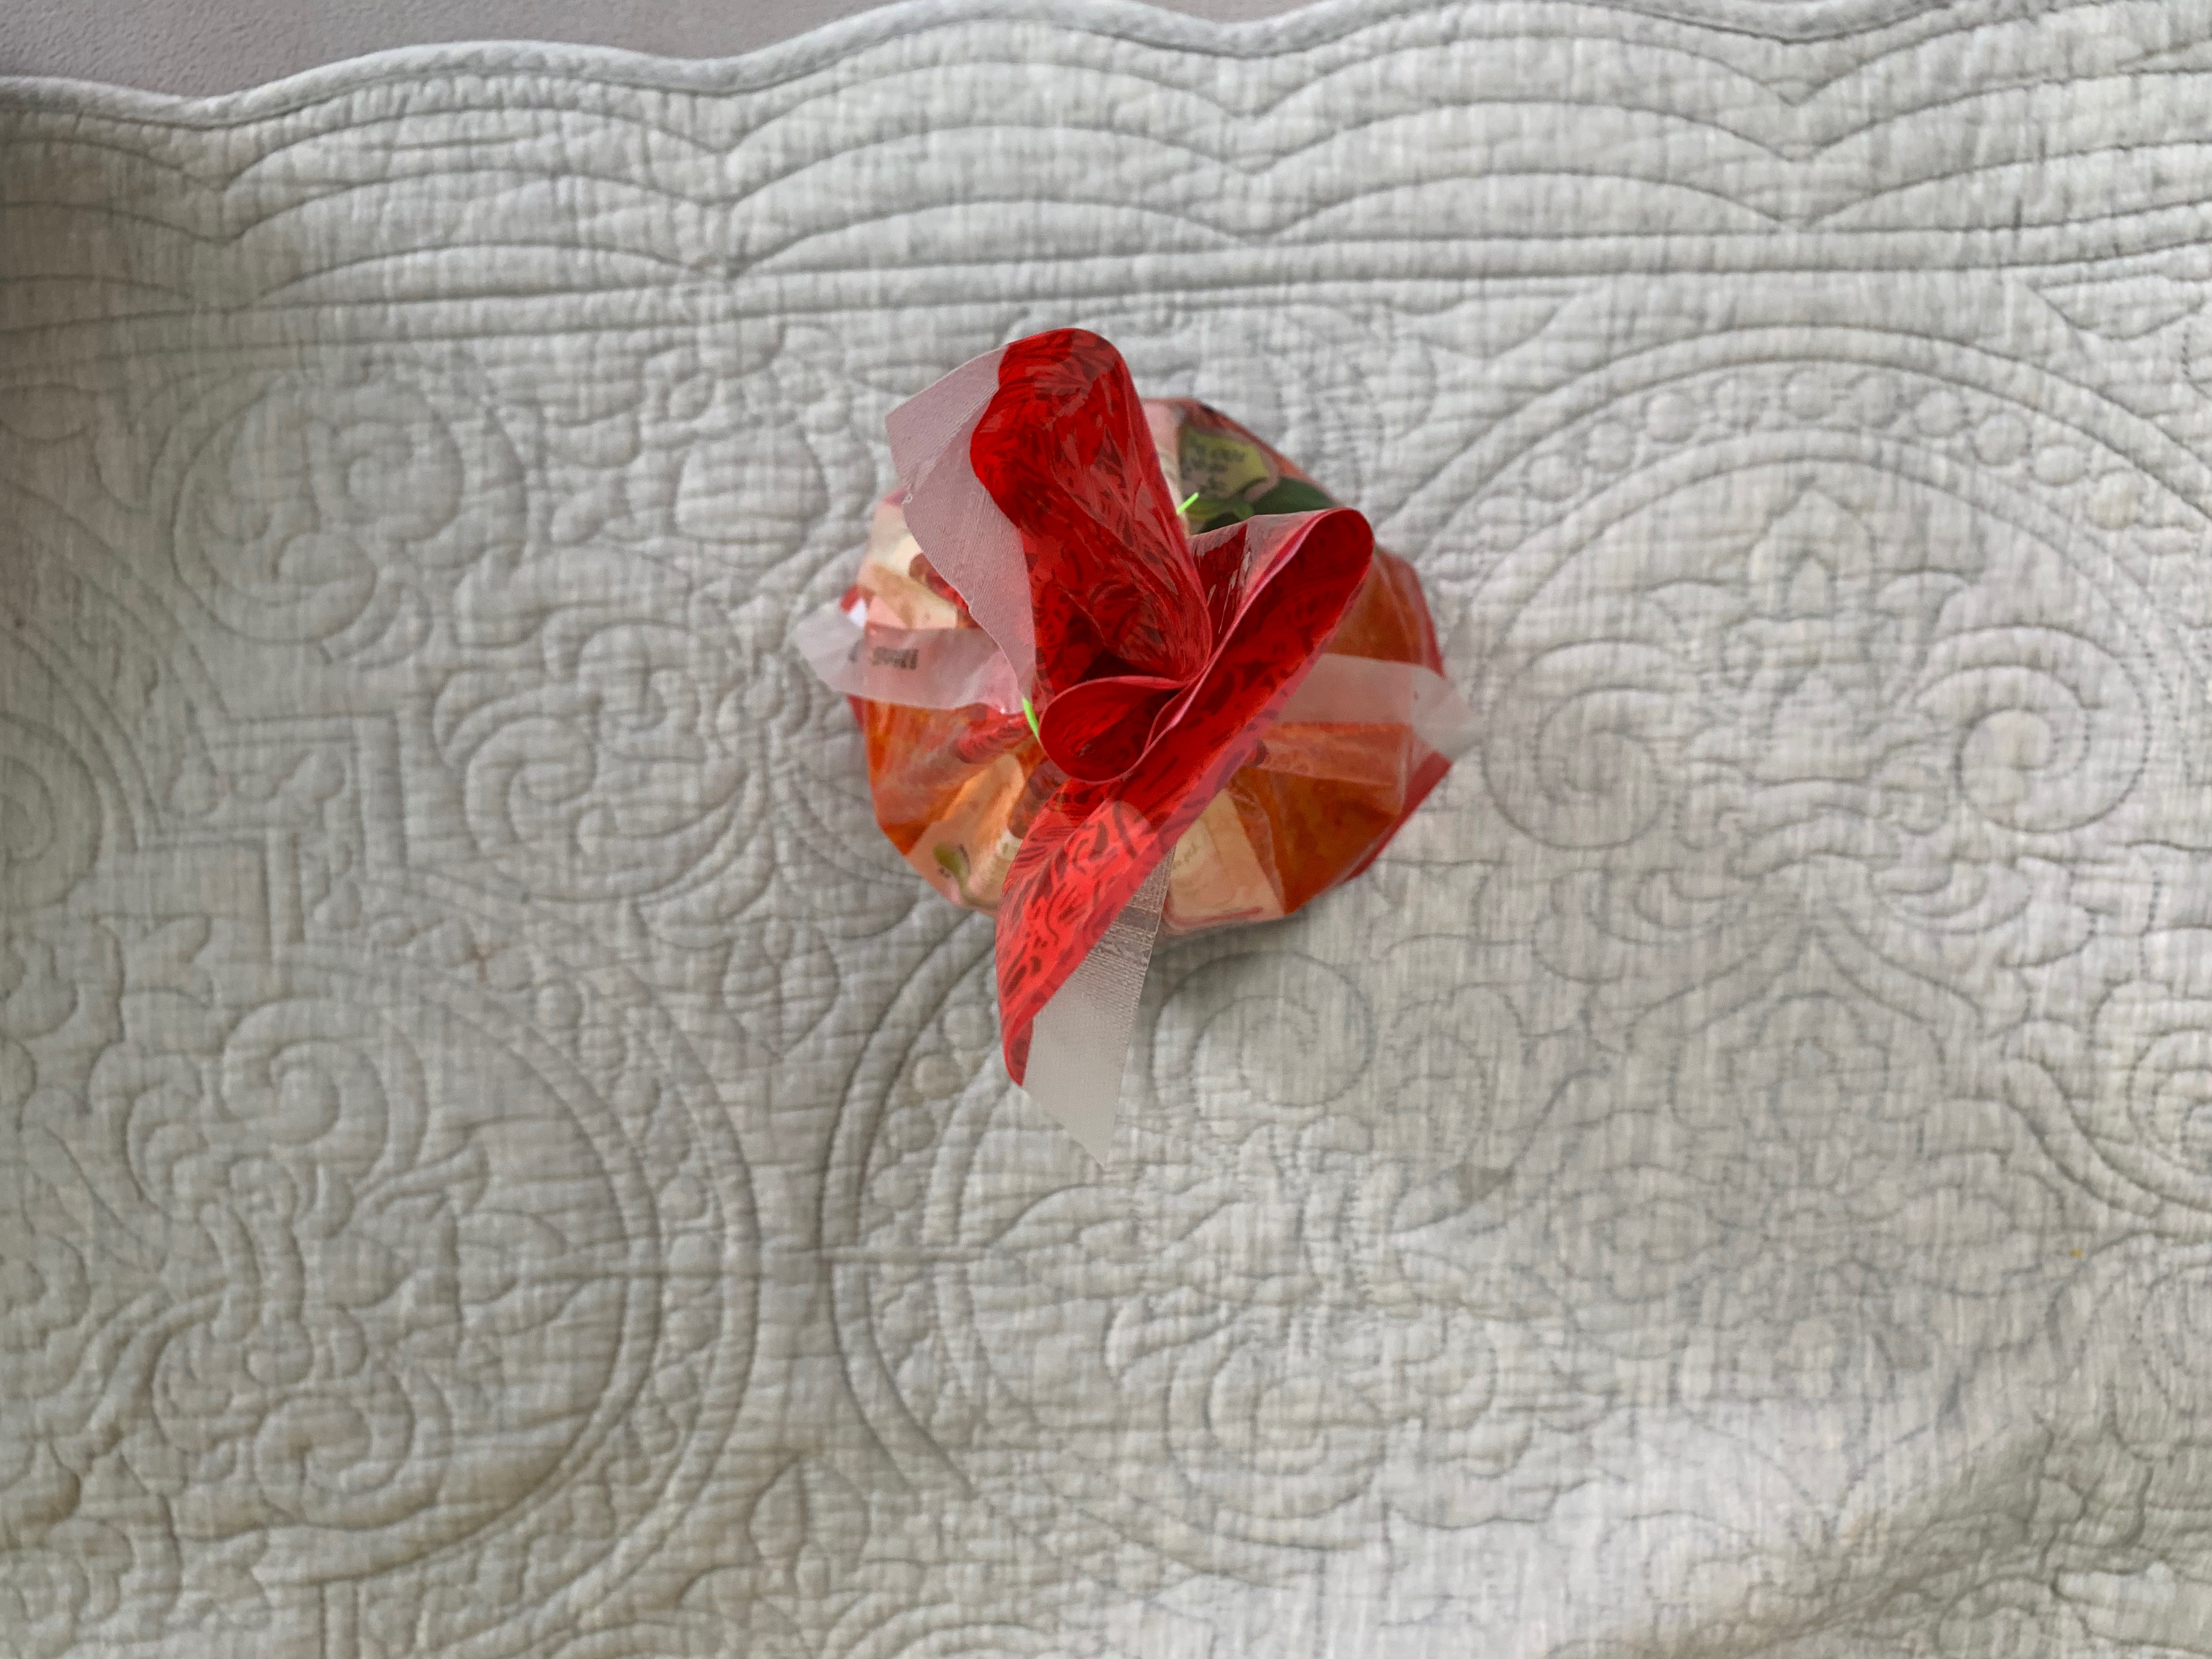kimchi: (852, 328, 1458, 1072)
